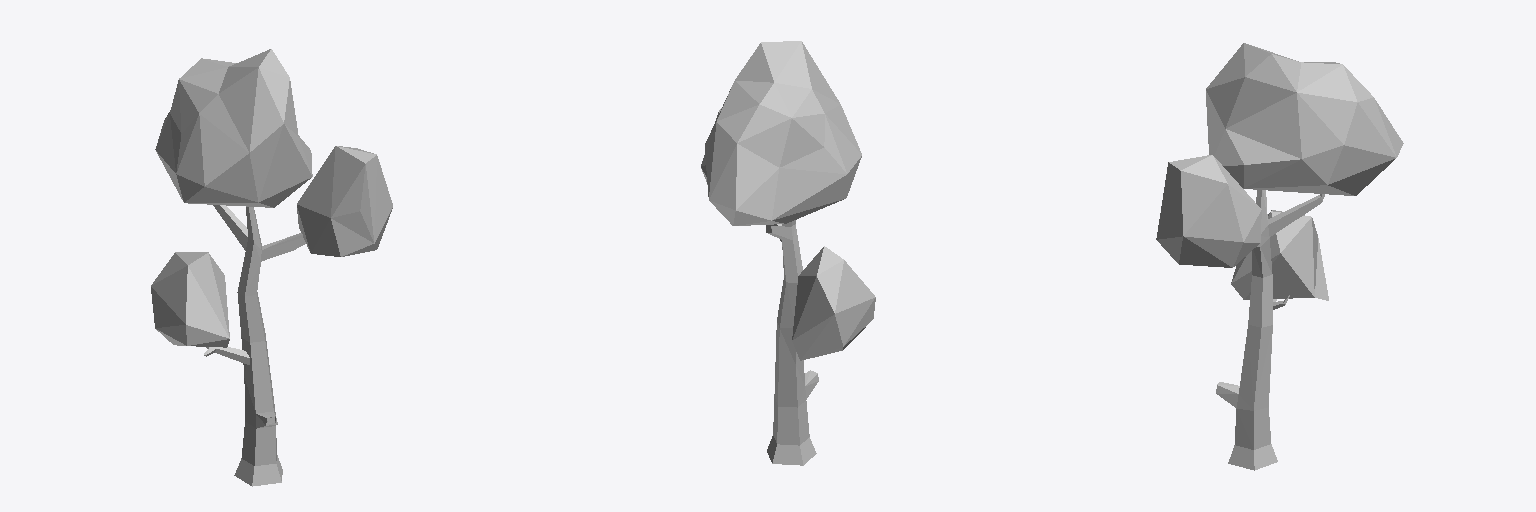
Rendered from fork_tree1.obj.
3 renders of one model, left to right at view 1: azimuth 30°, elevation 25°; view 2: azimuth 150°, elevation 25°; view 3: azimuth 270°, elevation 25°, orthographic.
Visible parts, largest first — view 1: Tree2_2_Cylinder.011; view 2: Tree2_2_Cylinder.011; view 3: Tree2_2_Cylinder.011.
Part boxes in pixels (x1,y1,x2,y2): Tree2_2_Cylinder.011: (151, 49, 392, 486); Tree2_2_Cylinder.011: (701, 41, 875, 465); Tree2_2_Cylinder.011: (1156, 43, 1403, 470).
Size of the model in its own units: 4.12 by 9.17 by 4.95.